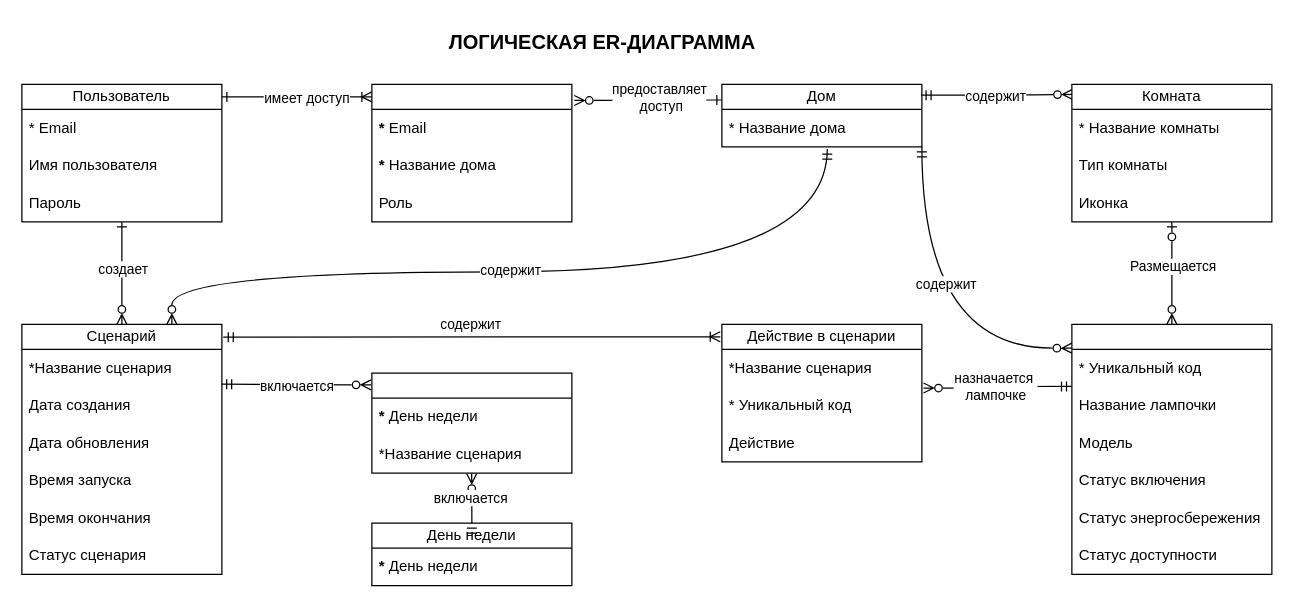
Some shapes in this 1294 by 608 pixel diagram are drawn without their labels. Here are the shapes that lost their labels. From the top down, the box of each, then its label:
(371, 83, 572, 222): Доступ к дому
(371, 372, 572, 473): День недели в сценариии
(1071, 323, 1272, 574): Лампочка
